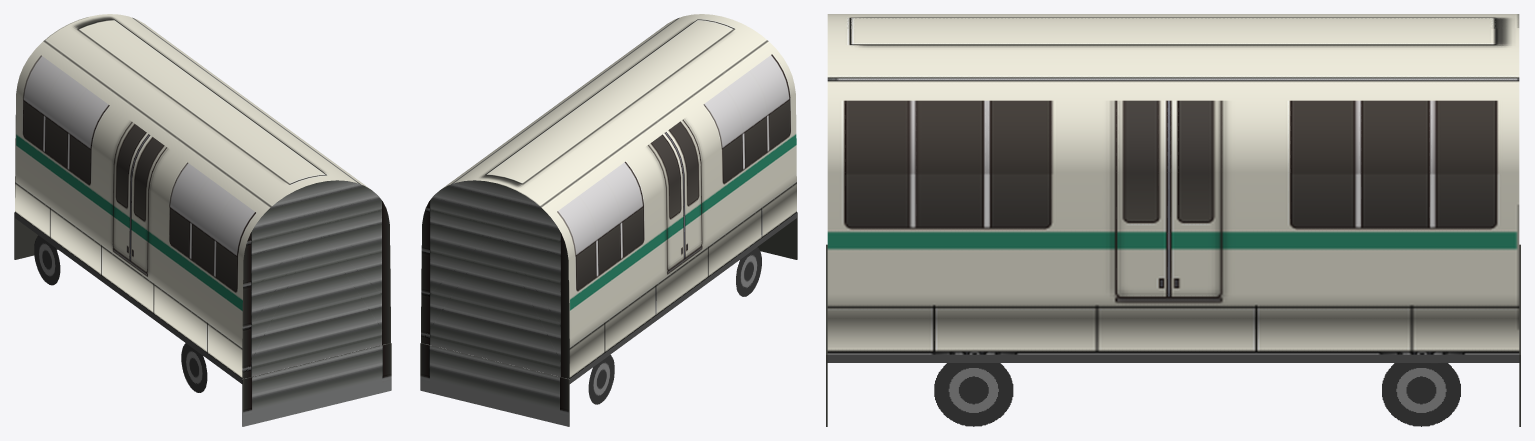
Rendered from car2.glb.
3 views of the same model, side by side, from view 1: azimuth 30°, elevation 25°; view 2: azimuth 150°, elevation 25°; view 3: azimuth 270°, elevation 25° (orthographic). The views are drawn at different scales.
Visible parts, largest first — view 1: yamaman-1000-car2; view 2: yamaman-1000-car2; view 3: yamaman-1000-car2.
Part boxes in pixels (box(x1,y1,x2,y2)): yamaman-1000-car2: box(14, 14, 391, 426); yamaman-1000-car2: box(420, 14, 797, 426); yamaman-1000-car2: box(826, 14, 1520, 426).
Bounding box in the file's own units: 2 × 2.9 × 5.33.
Materials: 9 (8 with a texture image).
